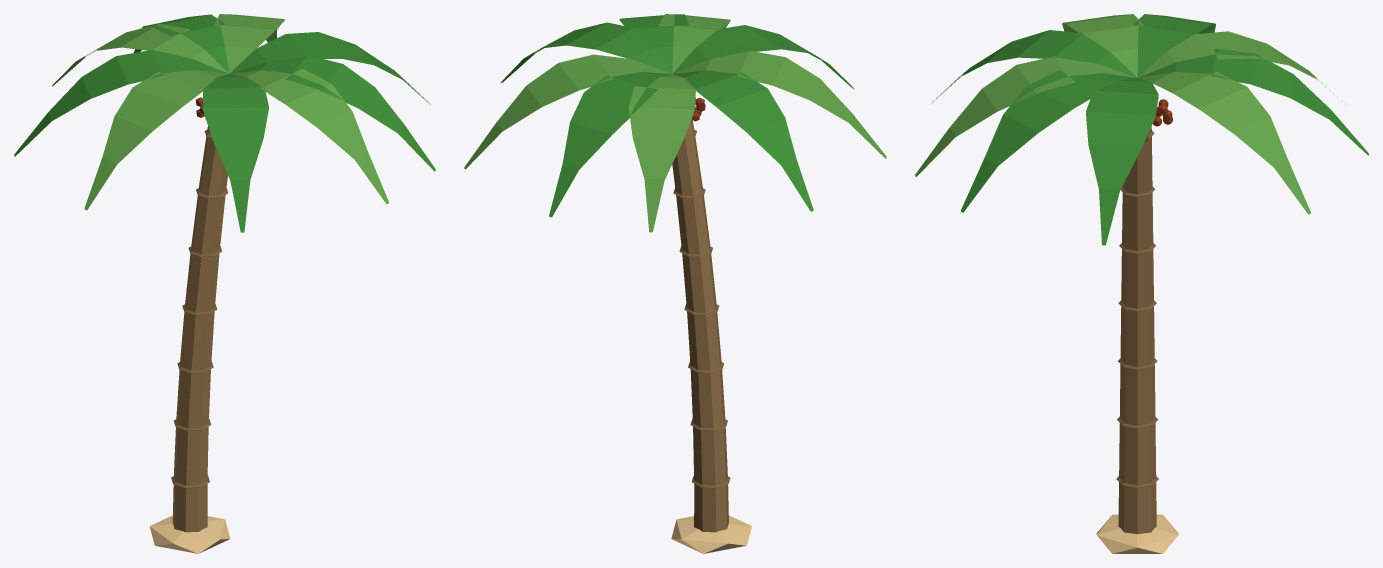
Rendered from map3_palm_date_a_v01.glb.
3 views of the same model, side by side, from view 1: azimuth 30°, elevation 25°; view 2: azimuth 150°, elevation 25°; view 3: azimuth 270°, elevation 25° (orthographic). The views are drawn at different scales.
Visible parts, largest first — view 1: palm_date; view 2: palm_date; view 3: palm_date.
Boxes of the visible parts, x1,y1,x2,y2 form: palm_date: (14, 14, 435, 553); palm_date: (464, 14, 886, 553); palm_date: (915, 14, 1368, 553).
Bounding box in the file's own units: 4.66 × 5.78 × 4.7.
